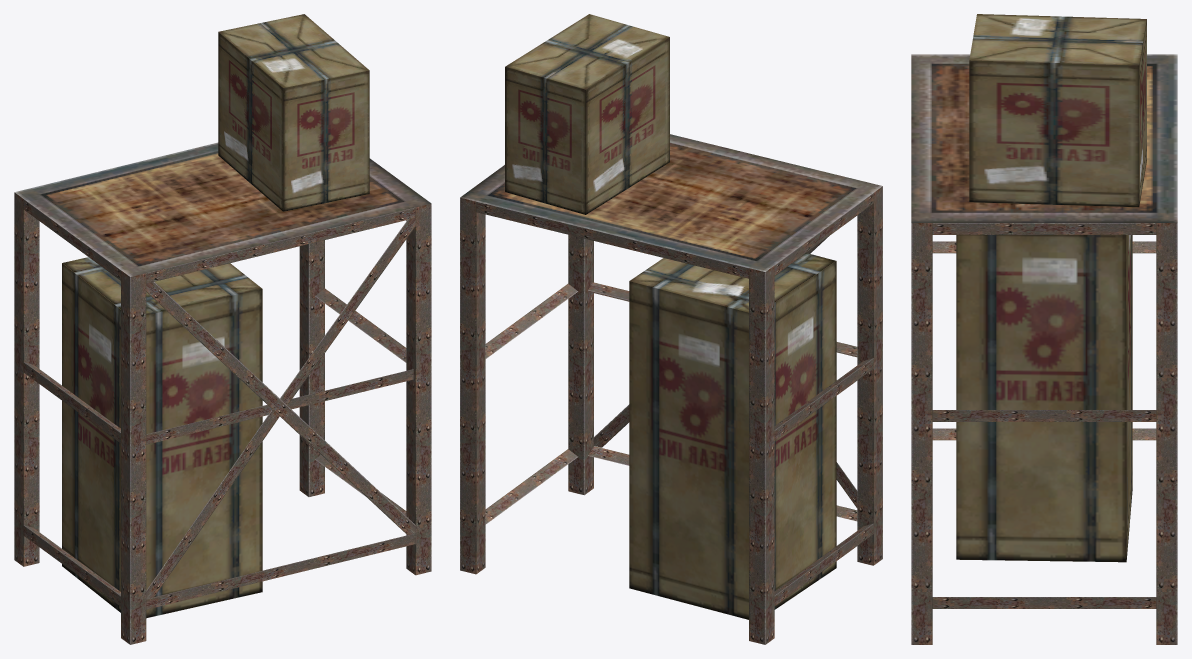
File: storage_shelves_large_top.fbx
3 views of the same model, side by side, from view 1: azimuth 30°, elevation 25°; view 2: azimuth 150°, elevation 25°; view 3: azimuth 270°, elevation 25° (orthographic). The views are drawn at different scales.
Visible parts, largest first — view 1: mesh_0, mesh_1; view 2: mesh_1, mesh_0; view 3: mesh_1, mesh_0.
Boxes of the visible parts, x1,y1,x2,y2 form: mesh_0: (14,142,431,644); mesh_1: (62,14,369,618); mesh_1: (505,14,836,619); mesh_0: (460,134,882,644); mesh_1: (956,14,1146,562); mesh_0: (911,54,1177,644).
Size of the model in its own units: 300 by 468 by 200.
Materials: 2 (2 with a texture image).
